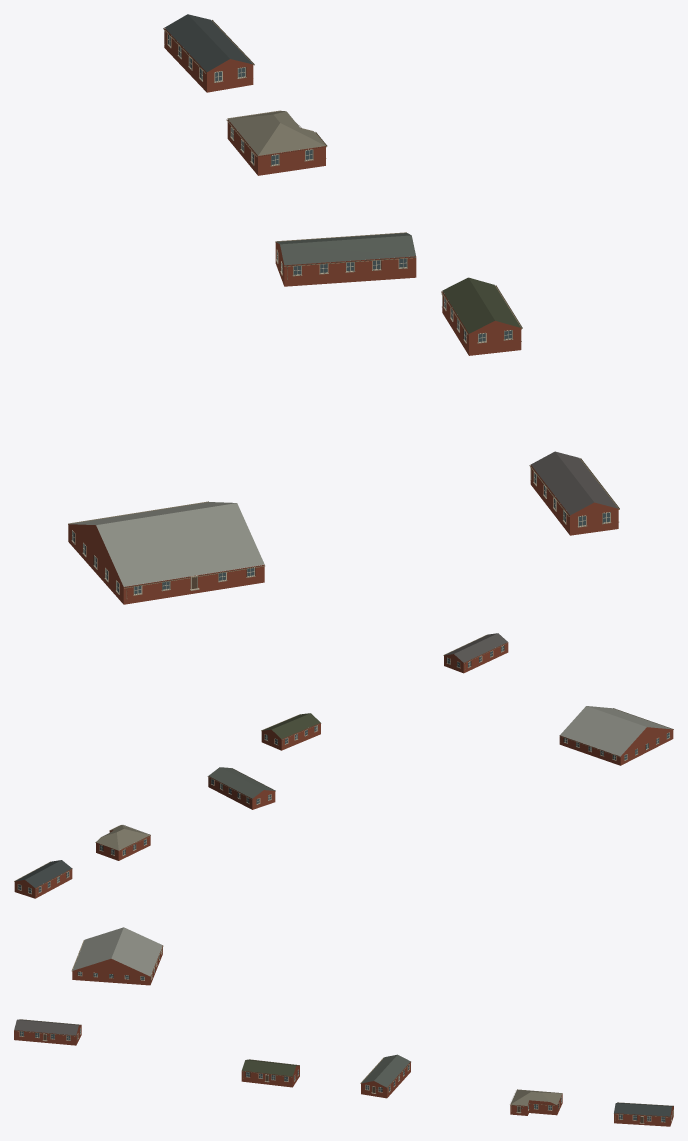
3 views of the same model, one above another, from view 1: azimuth 30°, elevation 25°; view 2: azimuth 150°, elevation 25°; view 3: azimuth 270°, elevation 25° (orthographic). The views are drawn at different scales.
Visible parts, largest first — view 1: -2_9_607956523_0; view 2: -2_9_607956523_0; view 3: -2_9_607956523_0.
Boxes of the visible parts, x1,y1,x2,y2 form: -2_9_607956523_0: (68,14,619,604); -2_9_607956523_0: (14,633,673,898); -2_9_607956523_0: (14,927,673,1126).
Bounding box in the file's own units: 126 × 14.64 × 214.
